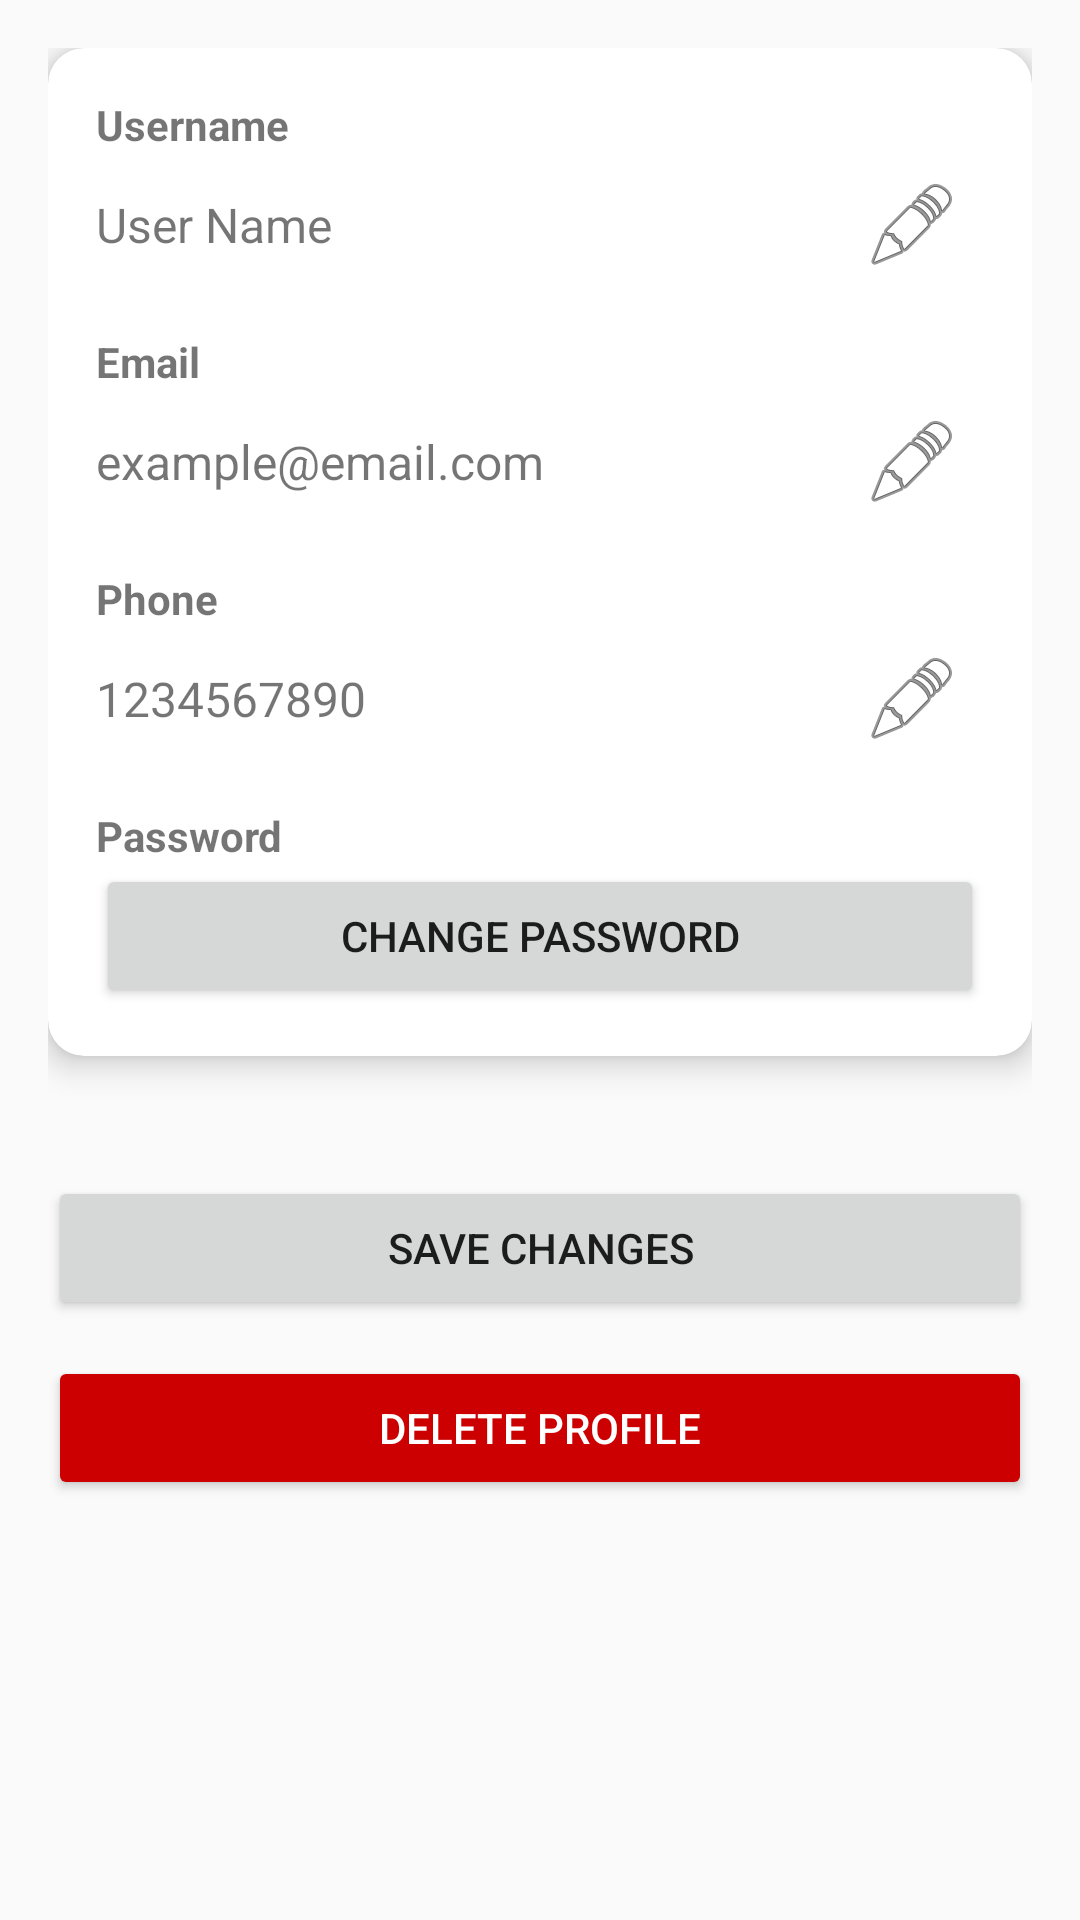

Icons on this 1080w x 1920h Android screen, each with the point to tap as [x,y]:
Edit Email: [911,461]
Edit Phone: [911,698]
